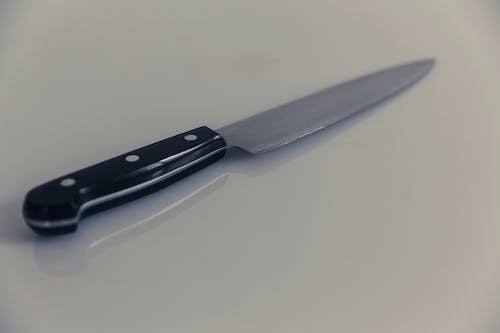knife: (19, 55, 437, 240)
